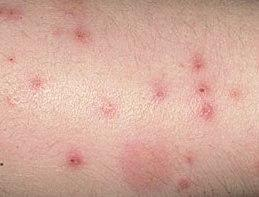Fleas: (63, 152, 86, 173), (0, 6, 24, 23), (98, 99, 117, 119), (152, 89, 169, 104), (195, 83, 209, 97), (192, 58, 205, 73), (200, 105, 213, 120), (72, 29, 87, 42), (178, 179, 191, 193), (184, 154, 193, 167), (26, 82, 42, 89)
